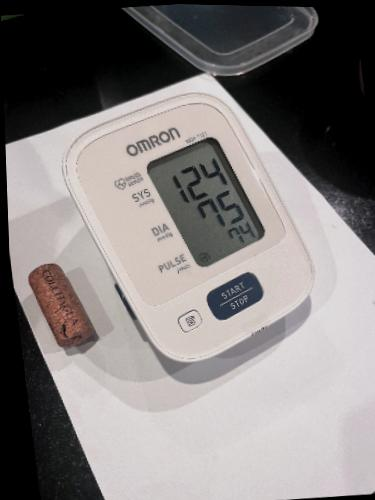bpm: (139, 123, 272, 274)
